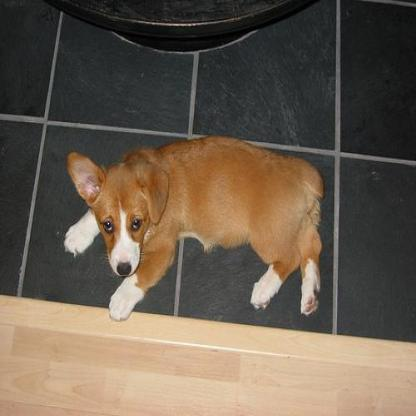Pembroke: (60, 133, 324, 320)
